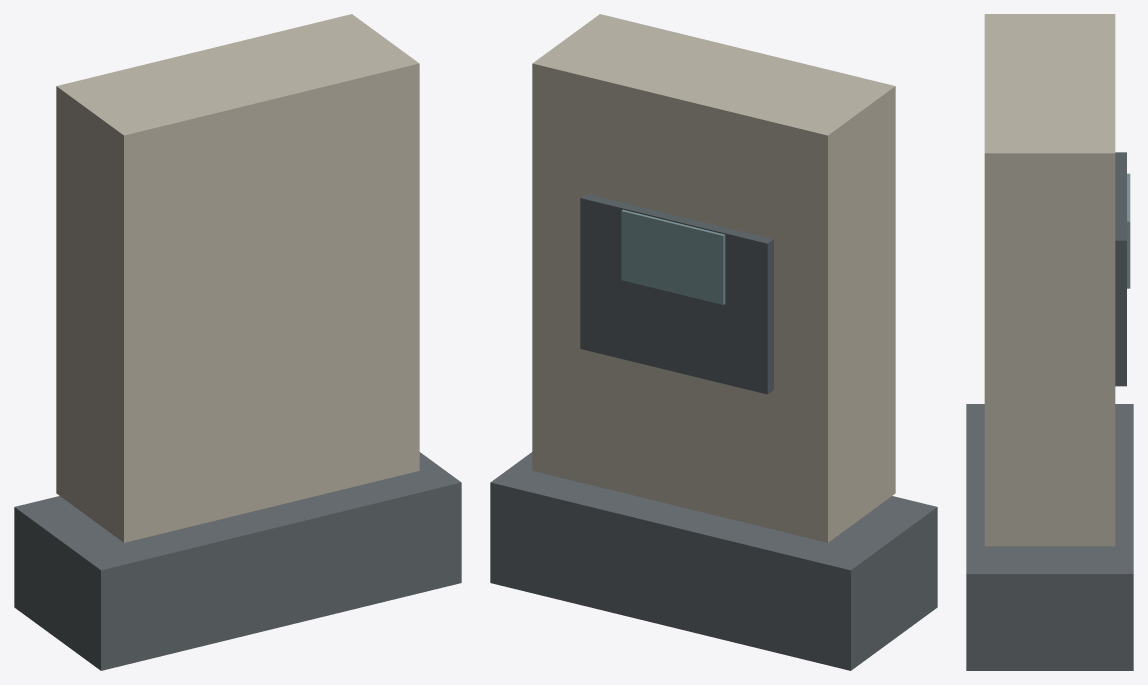
The model's file is iz3_school_locker_01.glb.
The picture shows the model from 3 angles, left to right: view 1: azimuth 30°, elevation 25°; view 2: azimuth 150°, elevation 25°; view 3: azimuth 270°, elevation 25°; orthographic projection. The views are drawn at different scales.
Visible parts, largest first — view 1: cabinet, base; view 2: cabinet, base, panel, display; view 3: cabinet, base, panel, display.
Boxes of the visible parts, x1,y1,x2,y2 form: cabinet: (56,14,419,542); base: (14,452,461,670); cabinet: (532,14,895,542); base: (490,452,937,670); panel: (580,193,773,394); display: (621,209,725,304); cabinet: (984,14,1115,546); base: (966,404,1133,670); panel: (1115,152,1126,386); display: (1127,173,1130,288).
Size of the model in its own units: 1.2 by 1.66 by 0.5.
